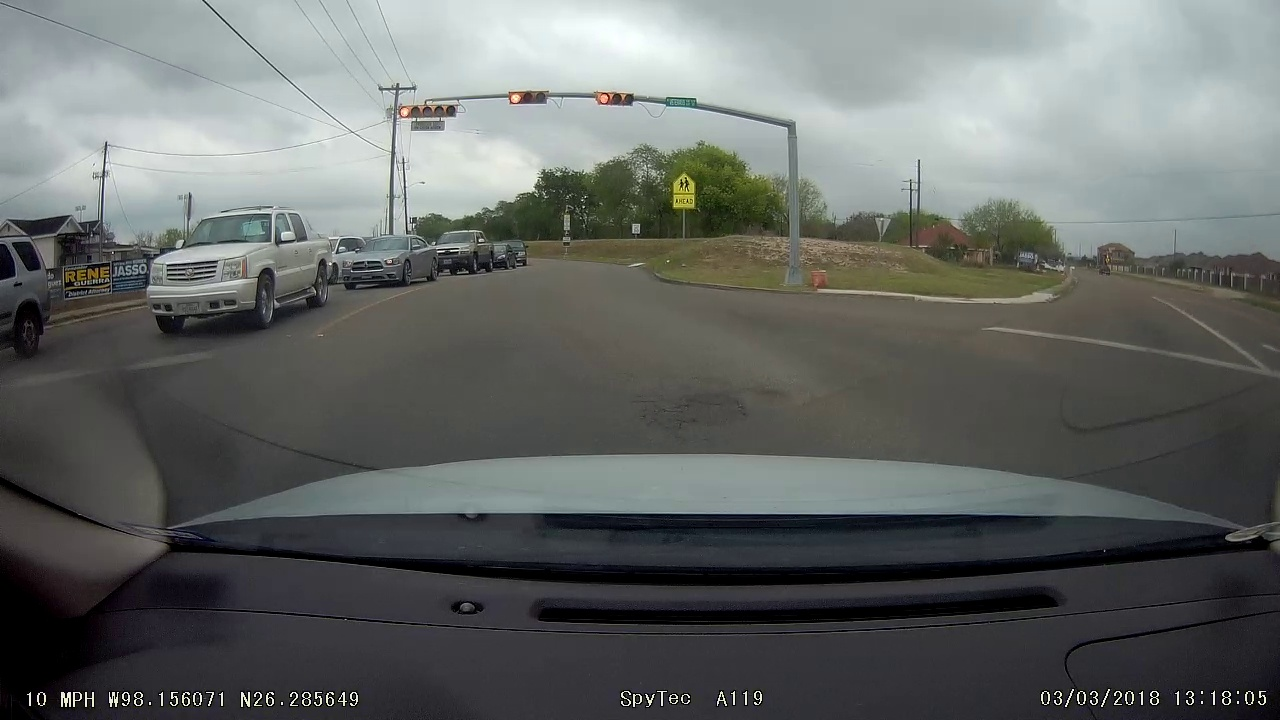alligatorCrack: (621, 366, 761, 441)
